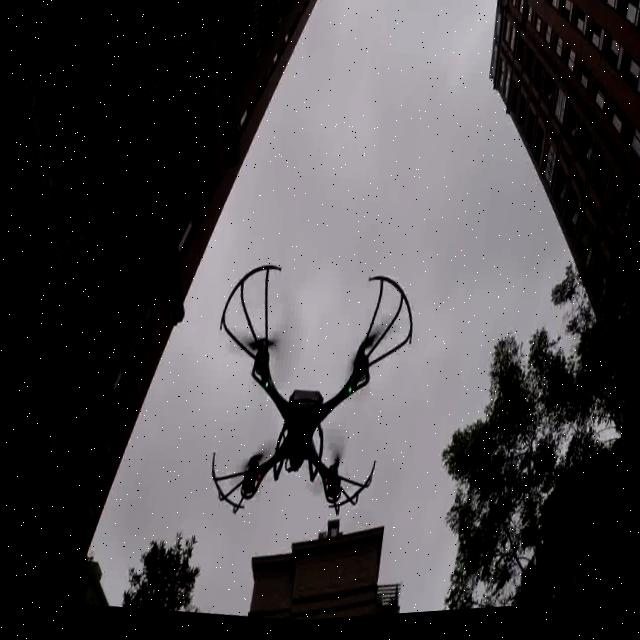drone: (185, 255, 411, 528)
